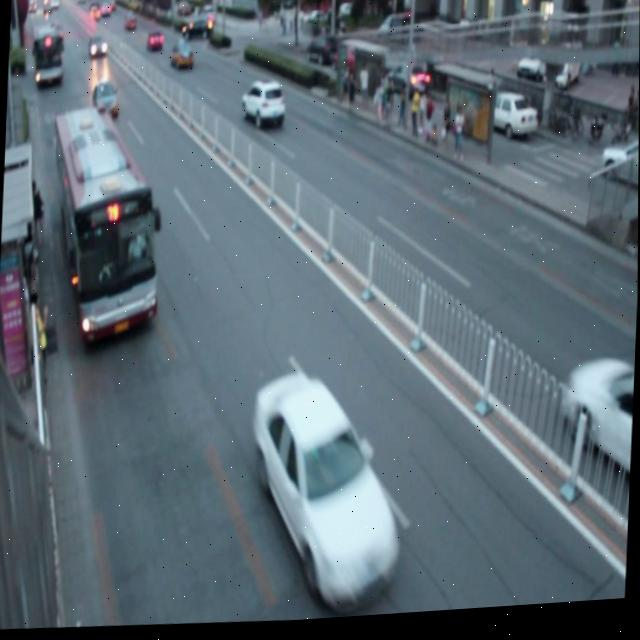car: (250, 371, 405, 600), (562, 359, 635, 494), (242, 79, 286, 135), (90, 82, 121, 125), (170, 42, 195, 75)
van: (47, 105, 166, 340)
